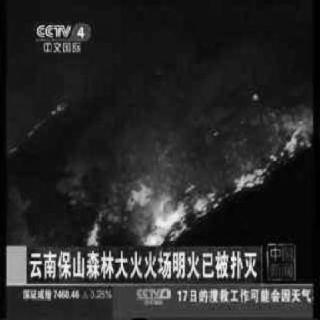Fire: (84, 81, 308, 245)
